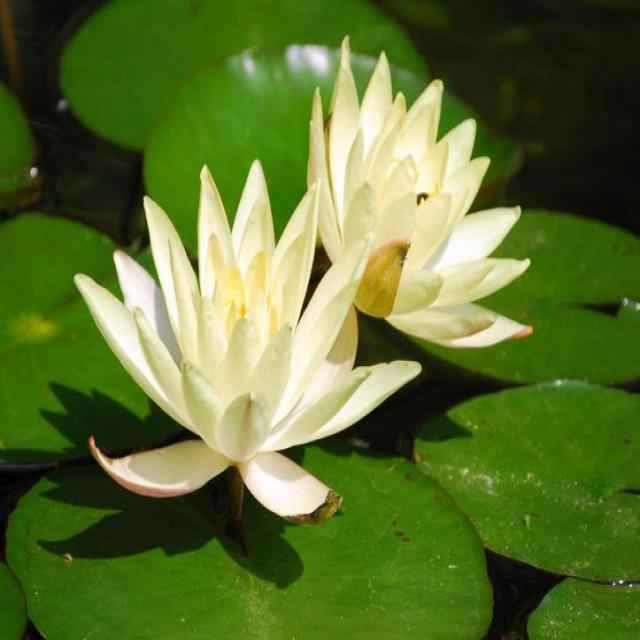water-lily: (44, 170, 418, 554), (278, 10, 549, 402)
